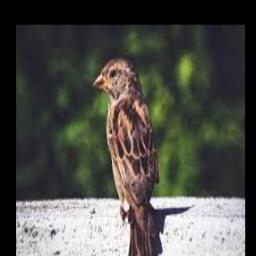Sparrow: (94, 56, 160, 256)
